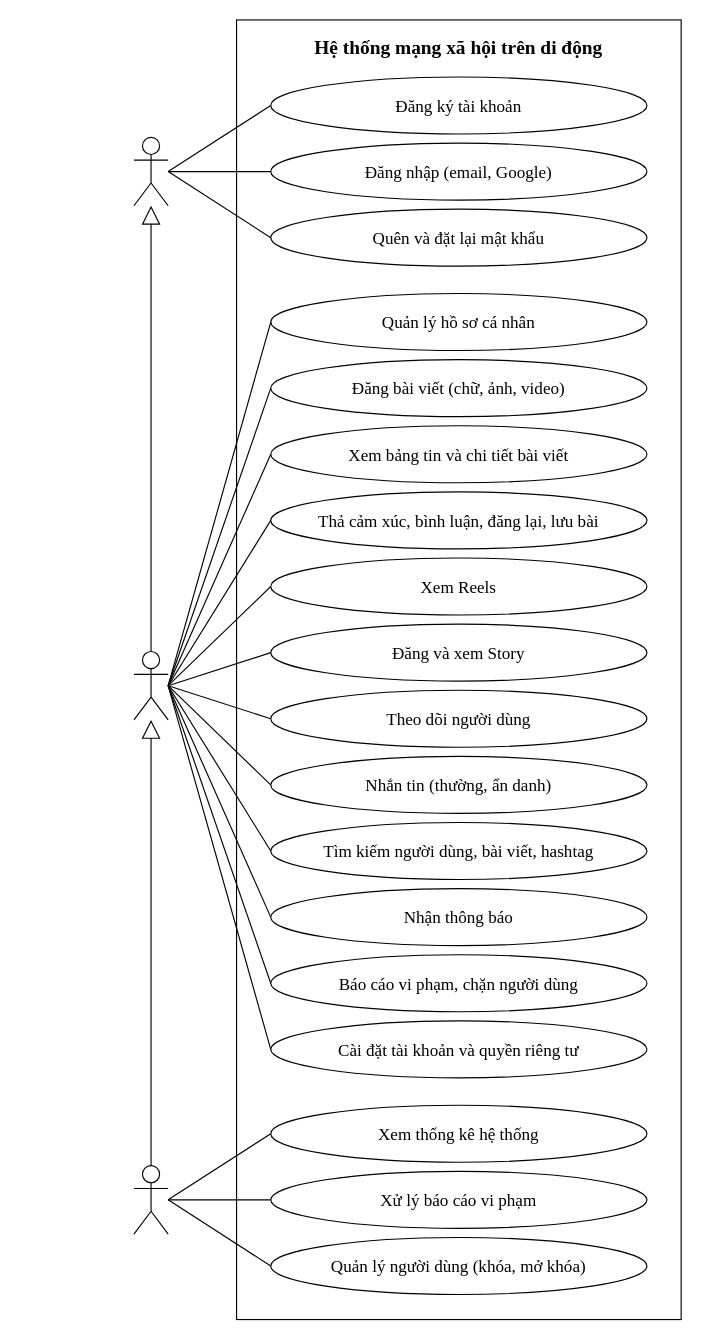
This 701x1340 diagram has some shape labels left out. Here are the shapes that lost their labels. From the top down, the centre of each, then its label:
At [150,171]: "Khách".
At [150,685]: "Người dùng".
At [150,1199]: "Quản trị viên".
